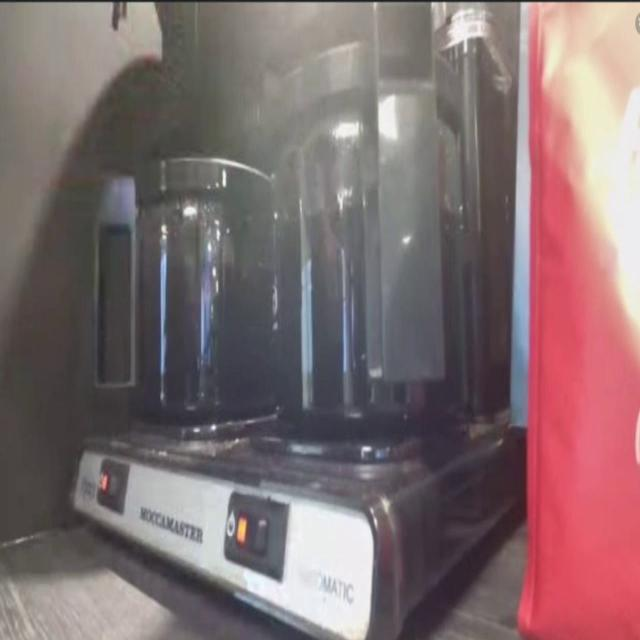coffee: (276, 167, 467, 421), (136, 230, 279, 406)
